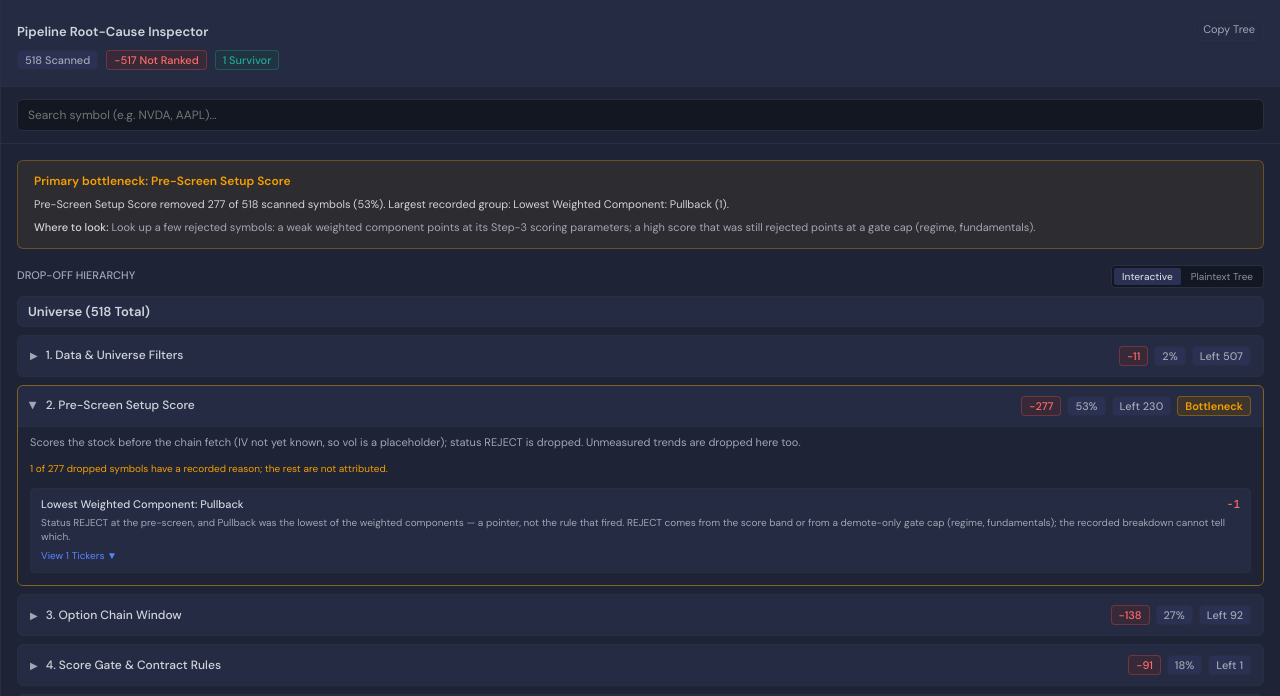
Test: PipelineInspector Component › reports a failed copy instead of claiming success
Click the button titled "Copy formatted ASCII tree": (1229, 29) [1194,17,1264,41]
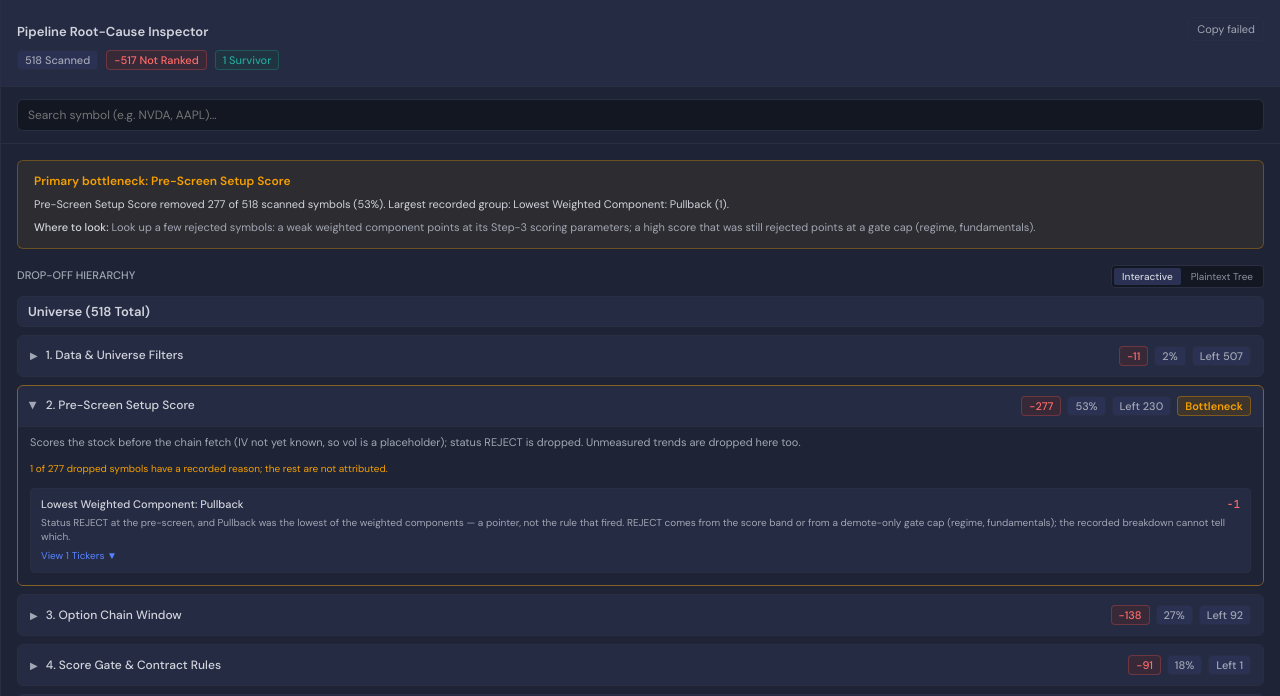
Now the button titled "Copy formatted ASCII tree" reads "Copy failed", box [1188,17,1264,41]
